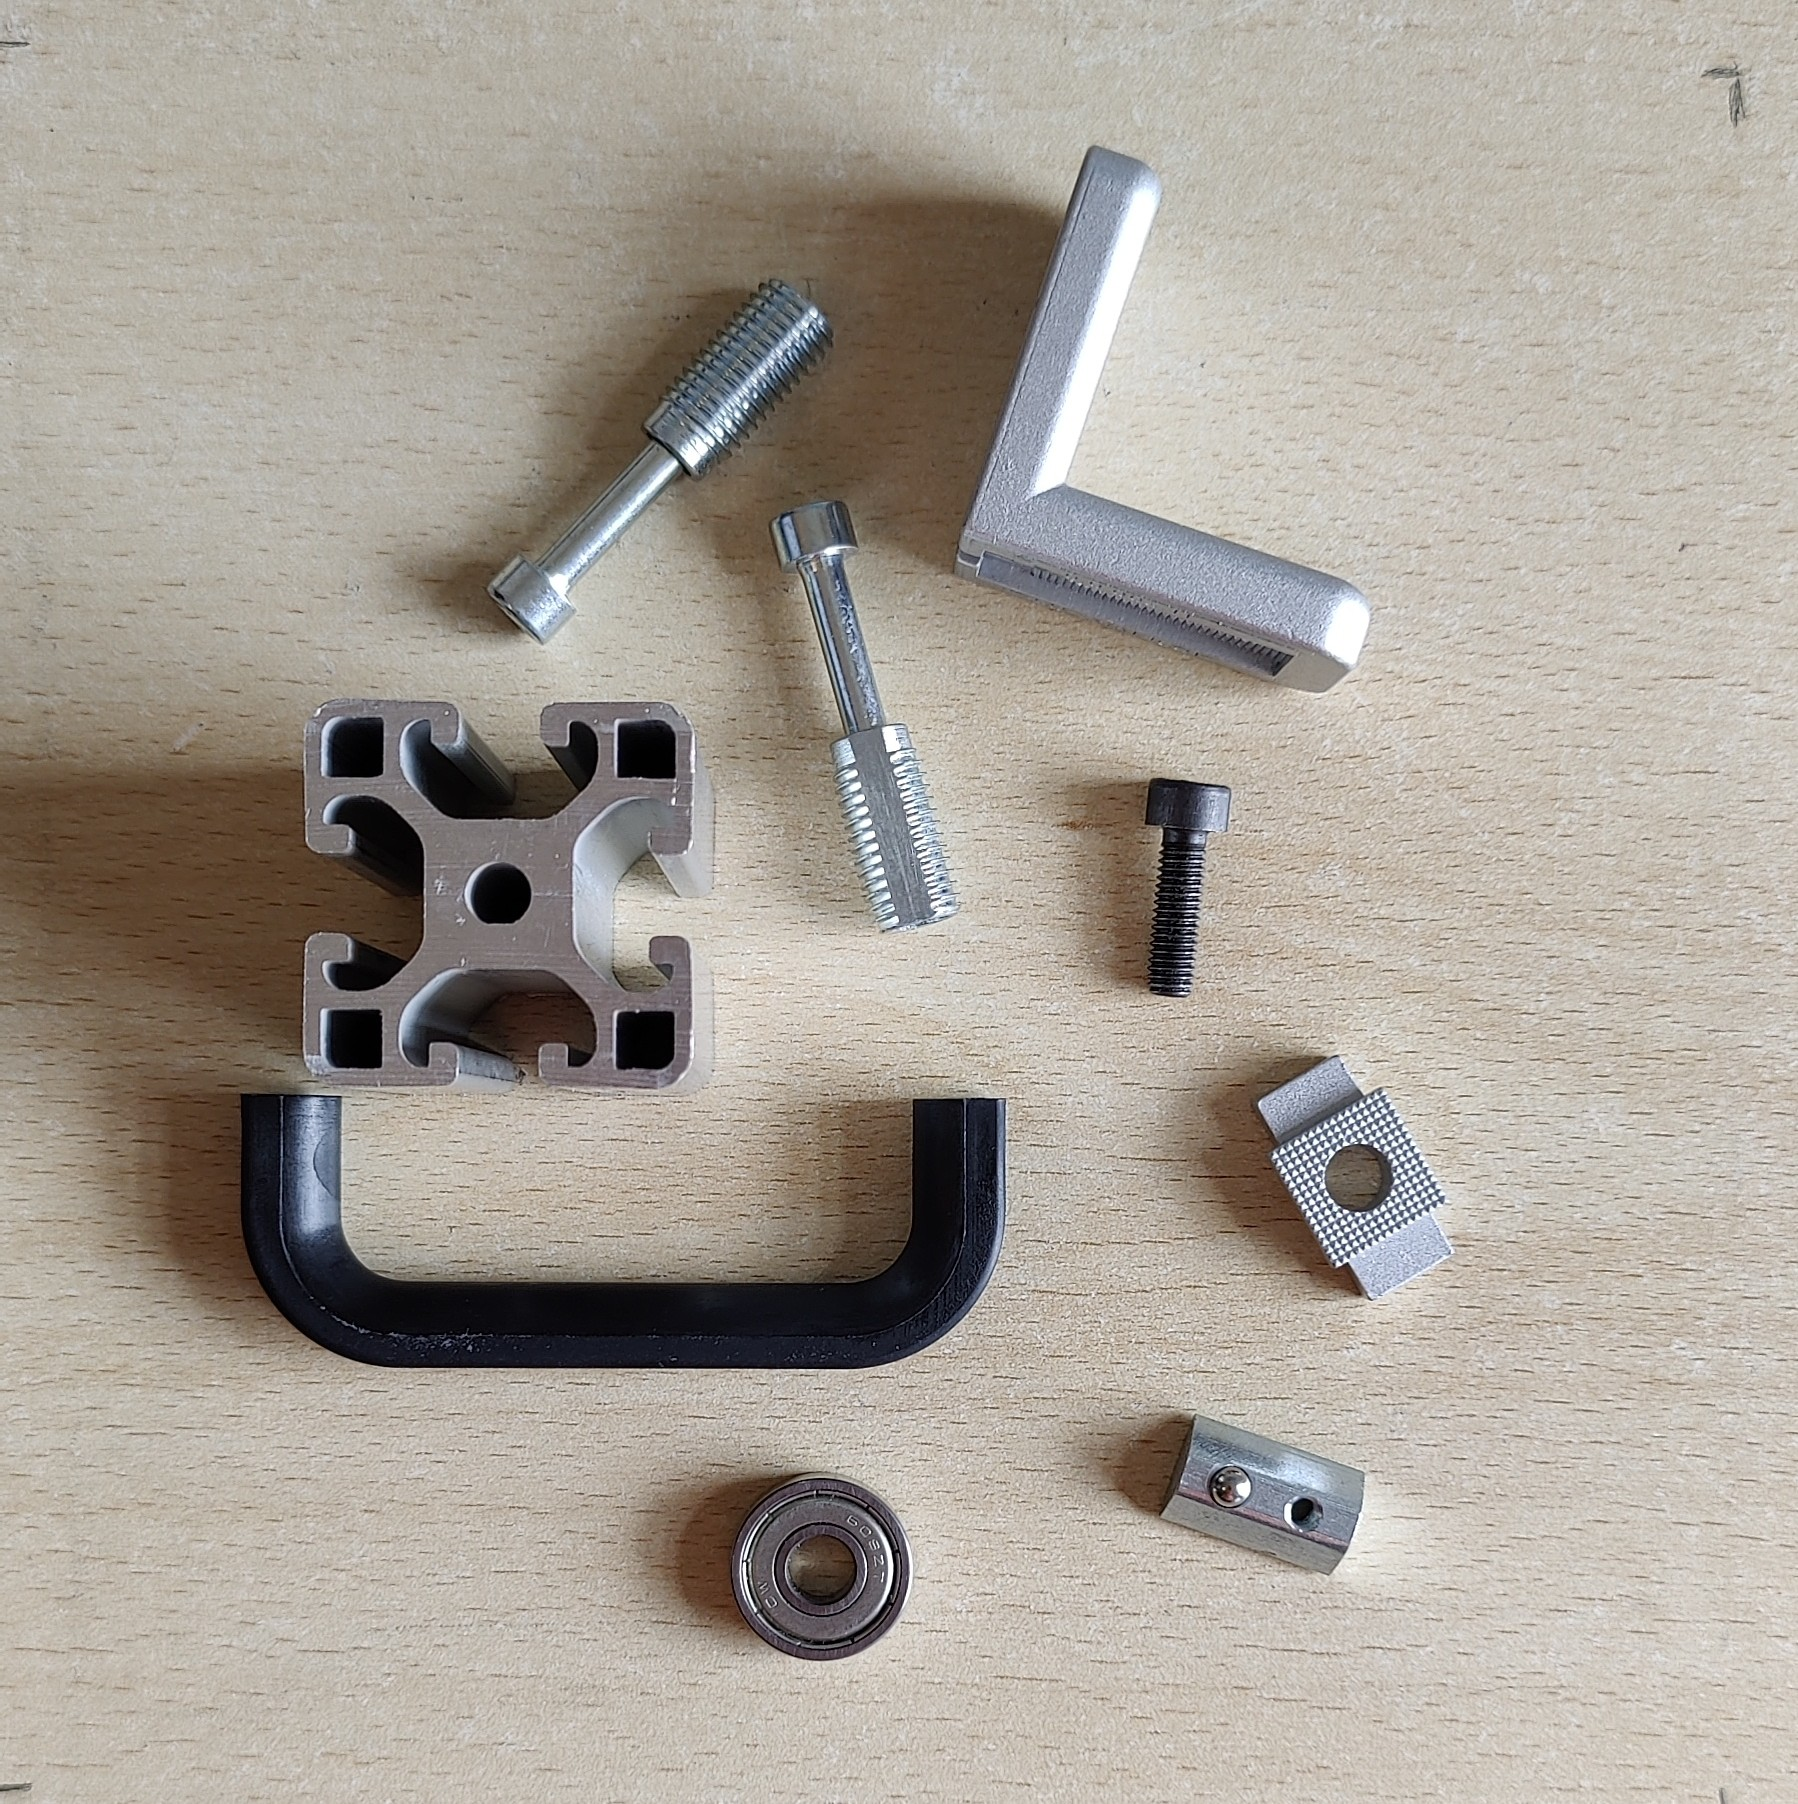Aluminium Extension: (298, 690, 716, 1096)
Ball Bearing: (726, 1470, 914, 1662)
Multiwinkel: (948, 143, 1373, 696)
Pull Handle: (234, 1081, 1008, 1374)
Shoulder Socket Head Cap Screw: (484, 272, 840, 649), (767, 495, 967, 937)
Socket Head Cap Screw: (1139, 774, 1232, 999)
T Nut Square: (1255, 1052, 1459, 1305)
T Spring Nut: (1153, 1412, 1368, 1578)
